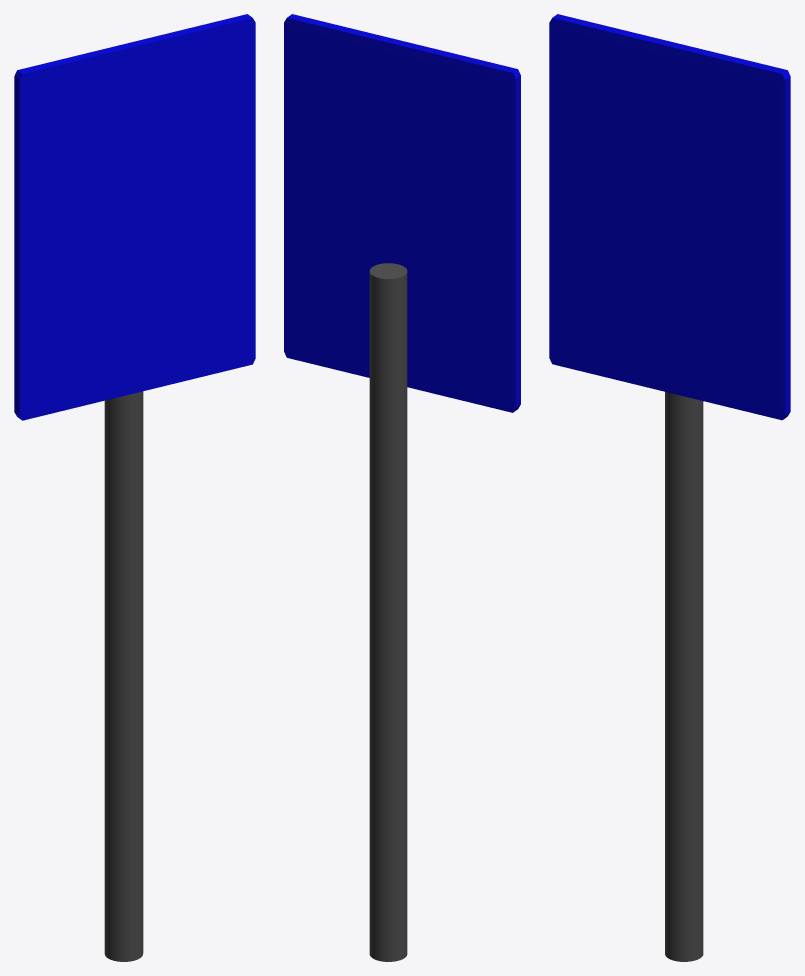
File: Highway_StreetSign.fbx
3 views of the same model, side by side, from view 1: azimuth 30°, elevation 25°; view 2: azimuth 150°, elevation 25°; view 3: azimuth 330°, elevation 25° (orthographic).
Parts seen in each view (by area): view 1: Sign10, pCylinder1; view 2: Sign10, pCylinder1; view 3: Sign10, pCylinder1.
Boxes of the visible parts, left/top/right/bottom form: Sign10: left=14, top=14, right=255, bottom=420; pCylinder1: left=104, top=391, right=143, bottom=961; Sign10: left=284, top=14, right=520, bottom=412; pCylinder1: left=369, top=263, right=407, bottom=961; Sign10: left=549, top=14, right=790, bottom=420; pCylinder1: left=665, top=392, right=703, bottom=961.
Size of the model in its own units: 2.34 by 8.72 by 0.4292.
